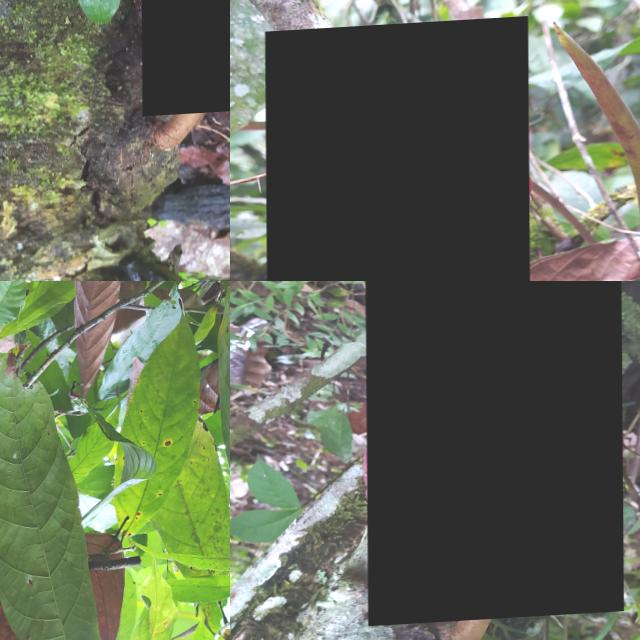Monilia: (365, 281, 623, 628), (265, 21, 530, 281)
